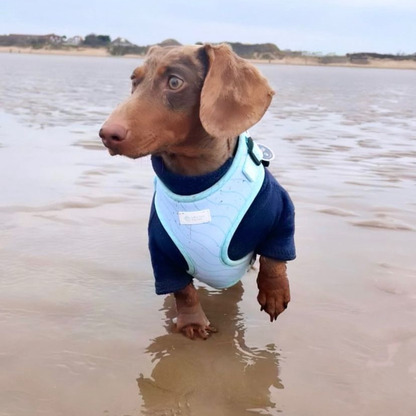dachshund: (103, 36, 319, 343)
